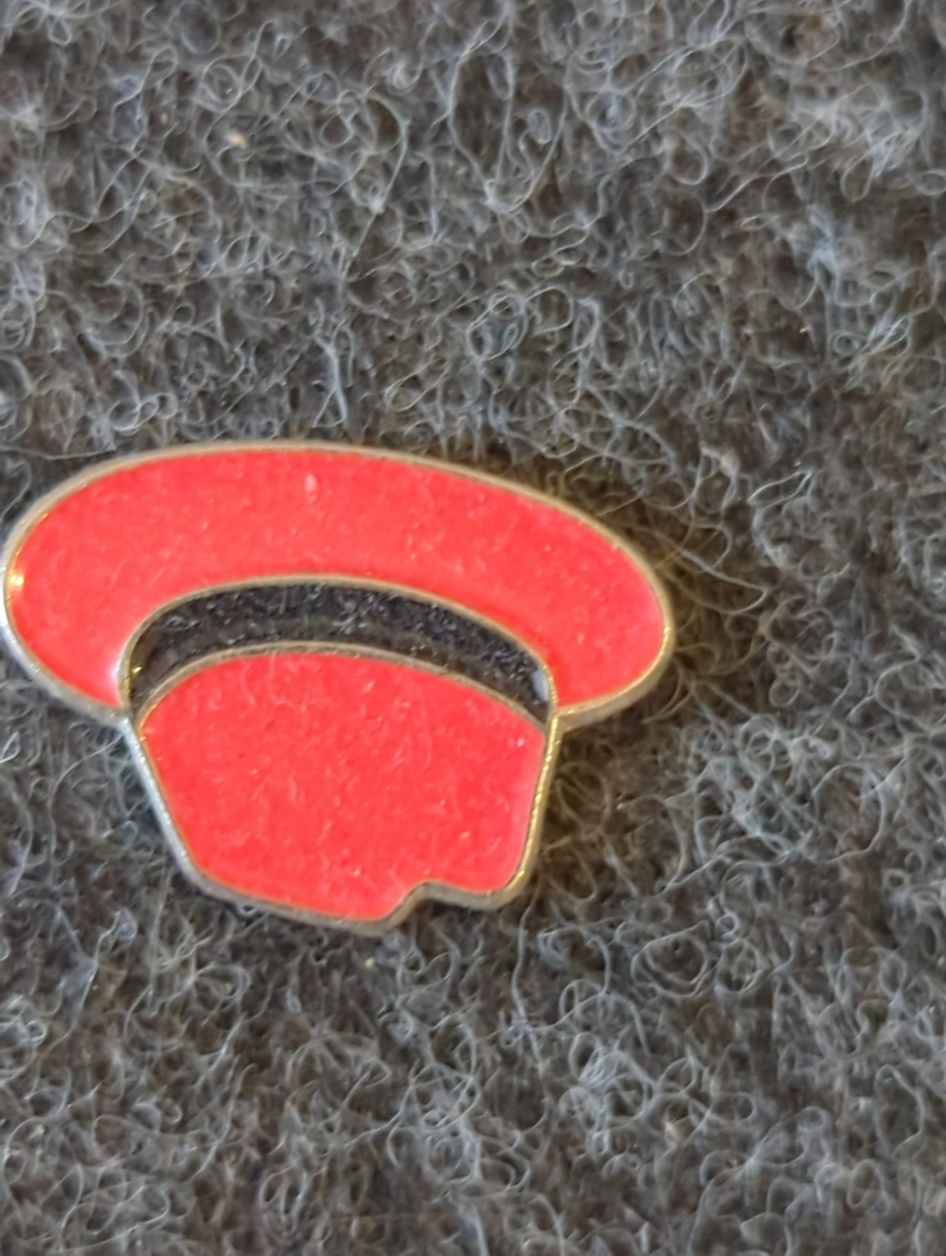Red-Hat: (0, 404, 729, 1001)
